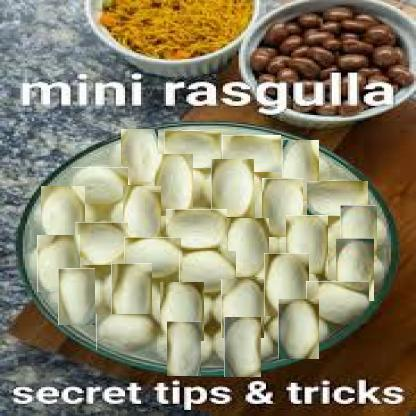rasgulla: (259, 258, 314, 312), (306, 281, 369, 324), (37, 190, 89, 242), (156, 285, 208, 337), (223, 221, 274, 273), (217, 283, 268, 334), (273, 304, 324, 355), (257, 183, 308, 233), (208, 163, 258, 214), (149, 160, 199, 211), (282, 220, 333, 270), (34, 238, 84, 289), (330, 245, 381, 295), (117, 190, 167, 240), (165, 209, 227, 248), (276, 146, 325, 195), (107, 267, 156, 316), (179, 251, 236, 293), (219, 323, 267, 372), (124, 237, 181, 278), (74, 222, 128, 265), (306, 180, 368, 216), (335, 210, 382, 257), (53, 273, 100, 320), (115, 134, 163, 180), (222, 135, 281, 172), (164, 130, 221, 168), (72, 167, 128, 204), (96, 314, 153, 350), (162, 327, 207, 371)
